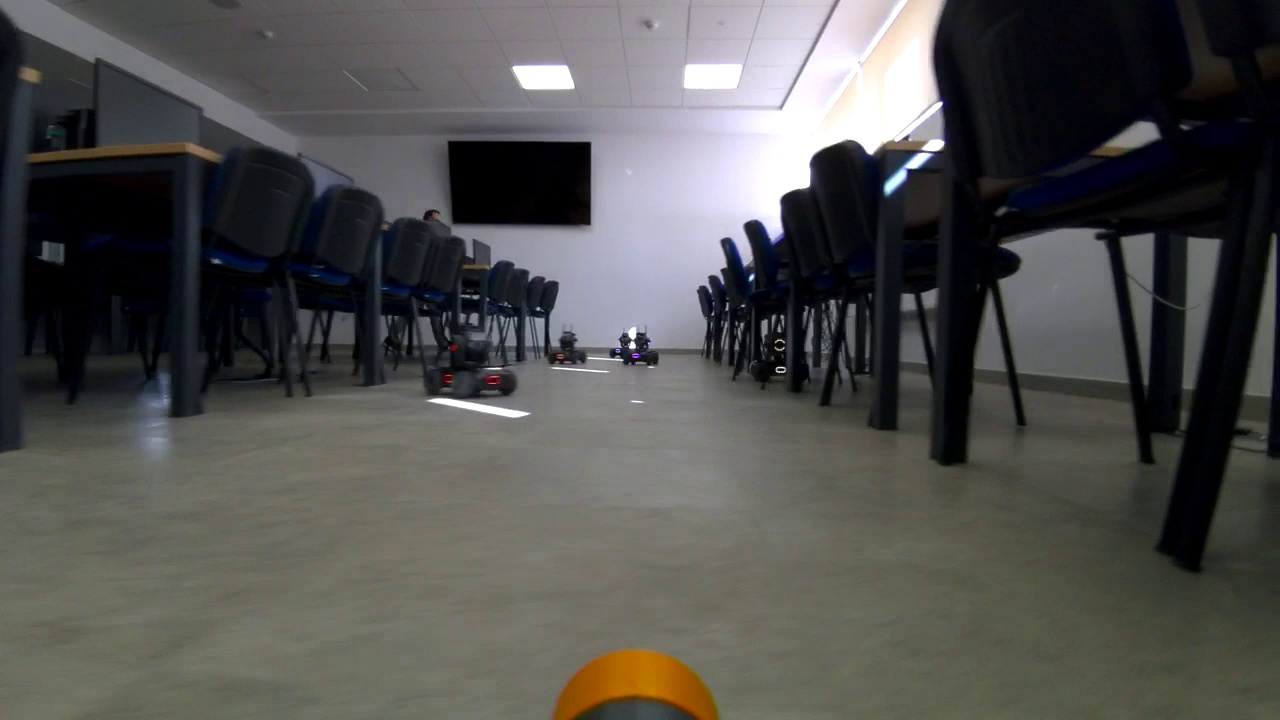robot: (423, 324, 522, 398), (541, 328, 587, 366), (614, 328, 660, 366)
